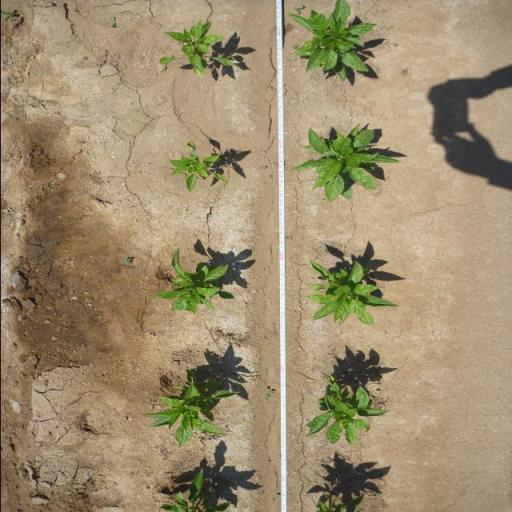plant: (290, 120, 404, 203), (136, 364, 240, 450), (302, 368, 392, 448), (305, 255, 401, 327), (301, 0, 378, 86), (152, 244, 240, 316), (153, 15, 242, 81), (162, 138, 232, 194), (156, 466, 236, 512), (313, 488, 368, 512)
weed: (262, 386, 276, 400), (0, 8, 15, 20), (106, 14, 117, 29), (120, 257, 132, 266), (294, 5, 304, 14), (270, 494, 280, 503), (400, 68, 409, 77), (267, 85, 277, 92), (257, 164, 267, 170), (284, 58, 296, 62), (291, 44, 298, 49), (283, 166, 287, 172), (393, 43, 398, 47), (298, 182, 303, 186), (198, 186, 204, 189), (287, 488, 289, 491)
